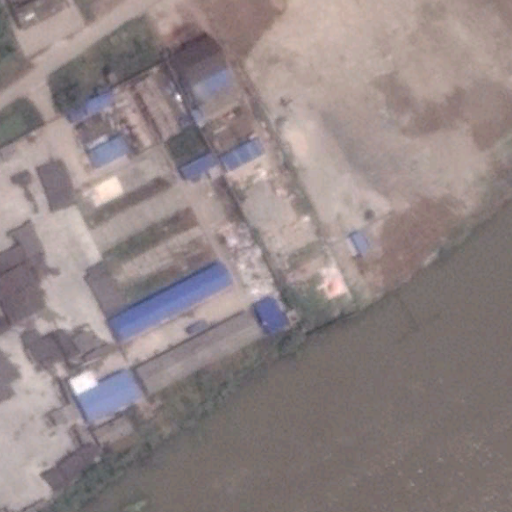msw: (224, 213, 277, 304)
